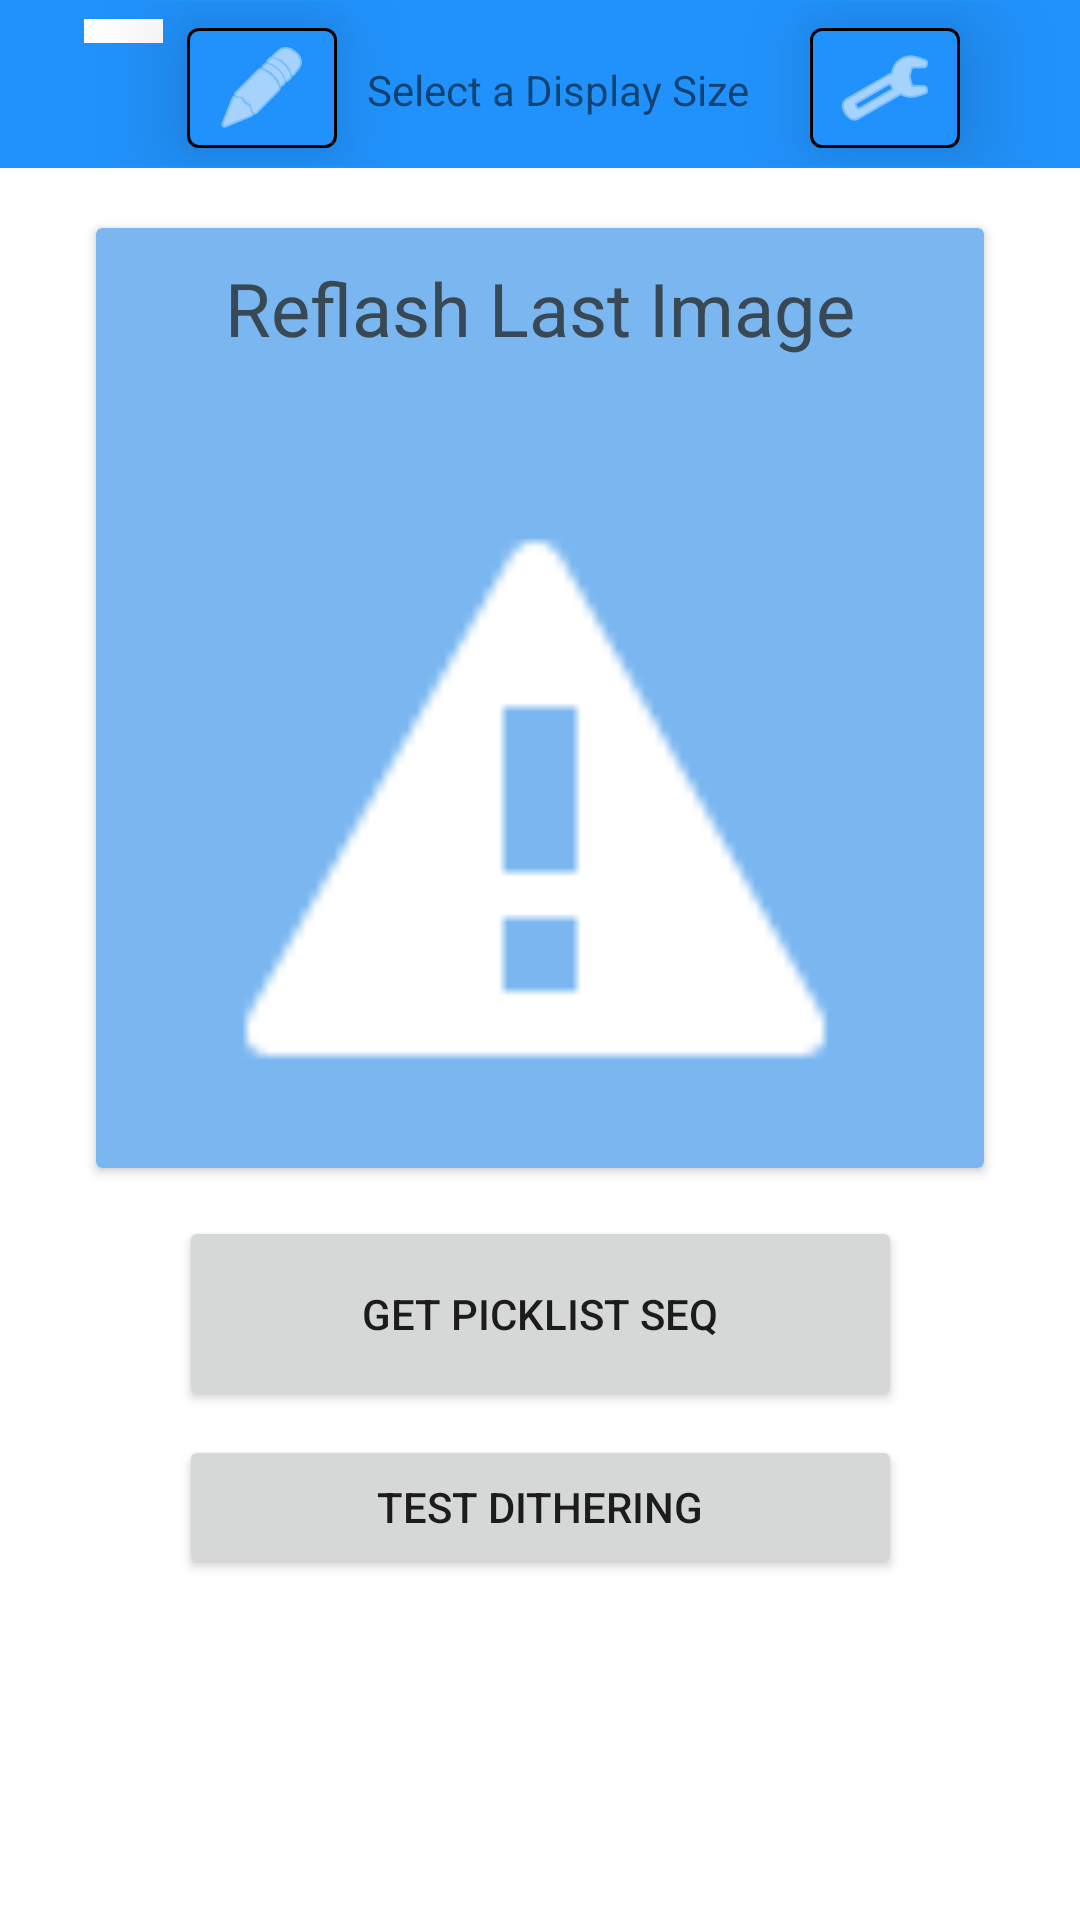

Icons on this 1080x1920 Android screen, each with its box as (x1, y1, x2, y2):
edit: (187, 23, 337, 157)
preferences: (810, 23, 960, 157)
